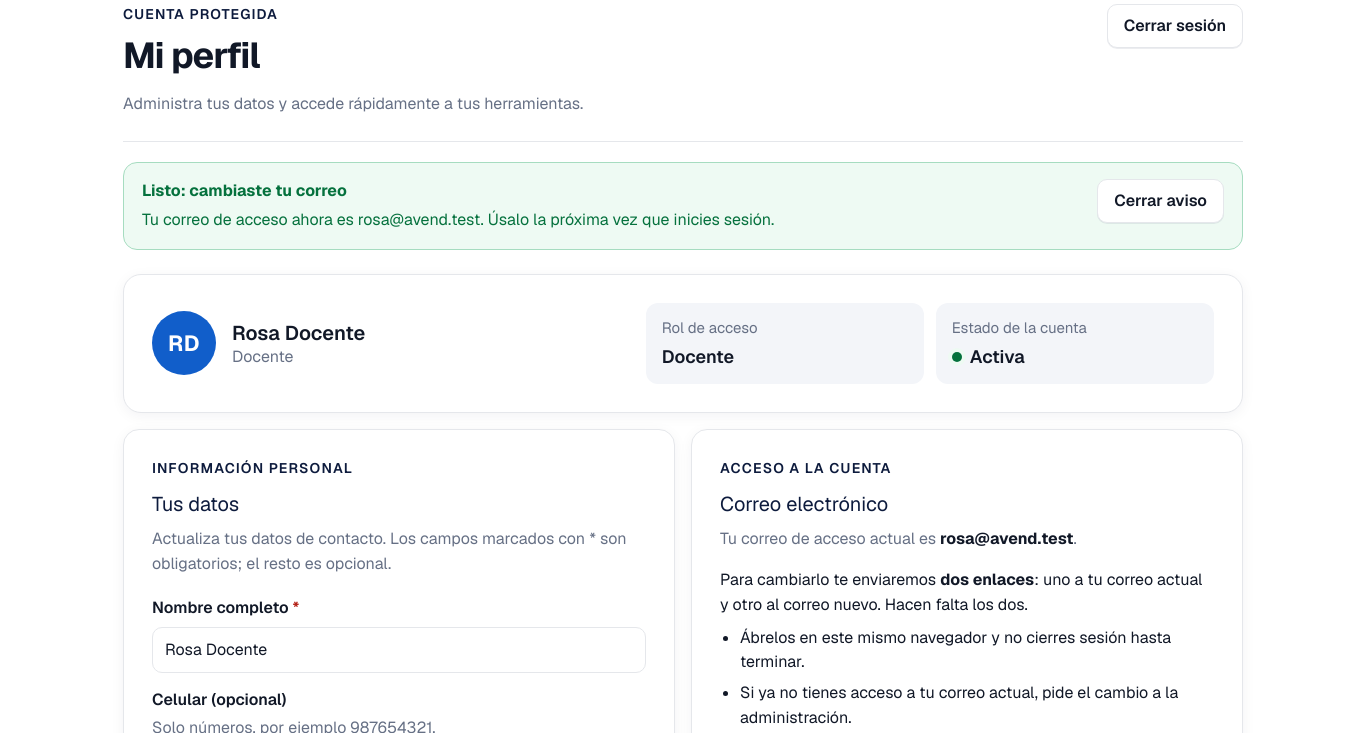
Test: Mi perfil › explica el resultado del cambio de correo «actualizado» y limpia la URL
This screenshot has width=1366, height=733.
Expected: the text "Tu correo de acceso ahora es rosa@avend.test" is shown, [142,209,774,230]
Click the button "Cerrar aviso".
click(1161, 201)  # box [1097,179,1224,224]
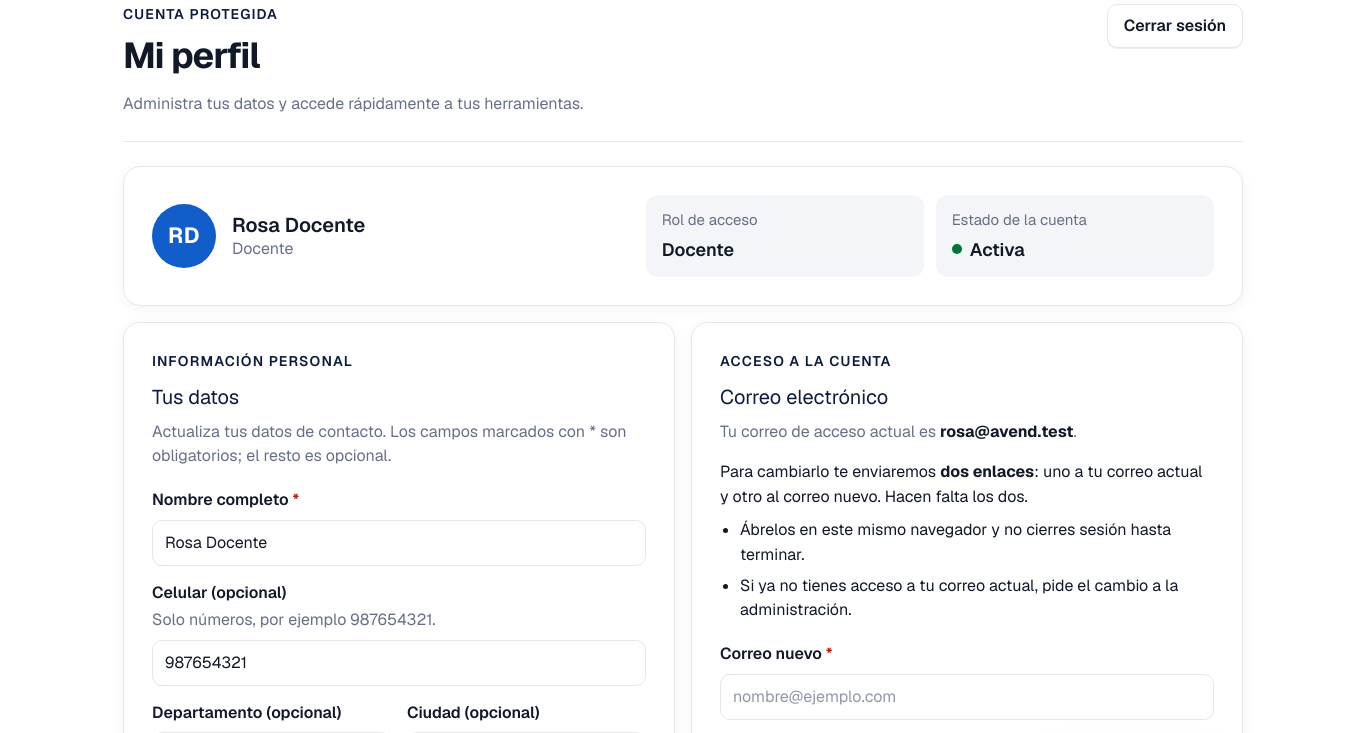
Now the text "Tu correo de acceso ahora es rosa@avend.test" is gone
